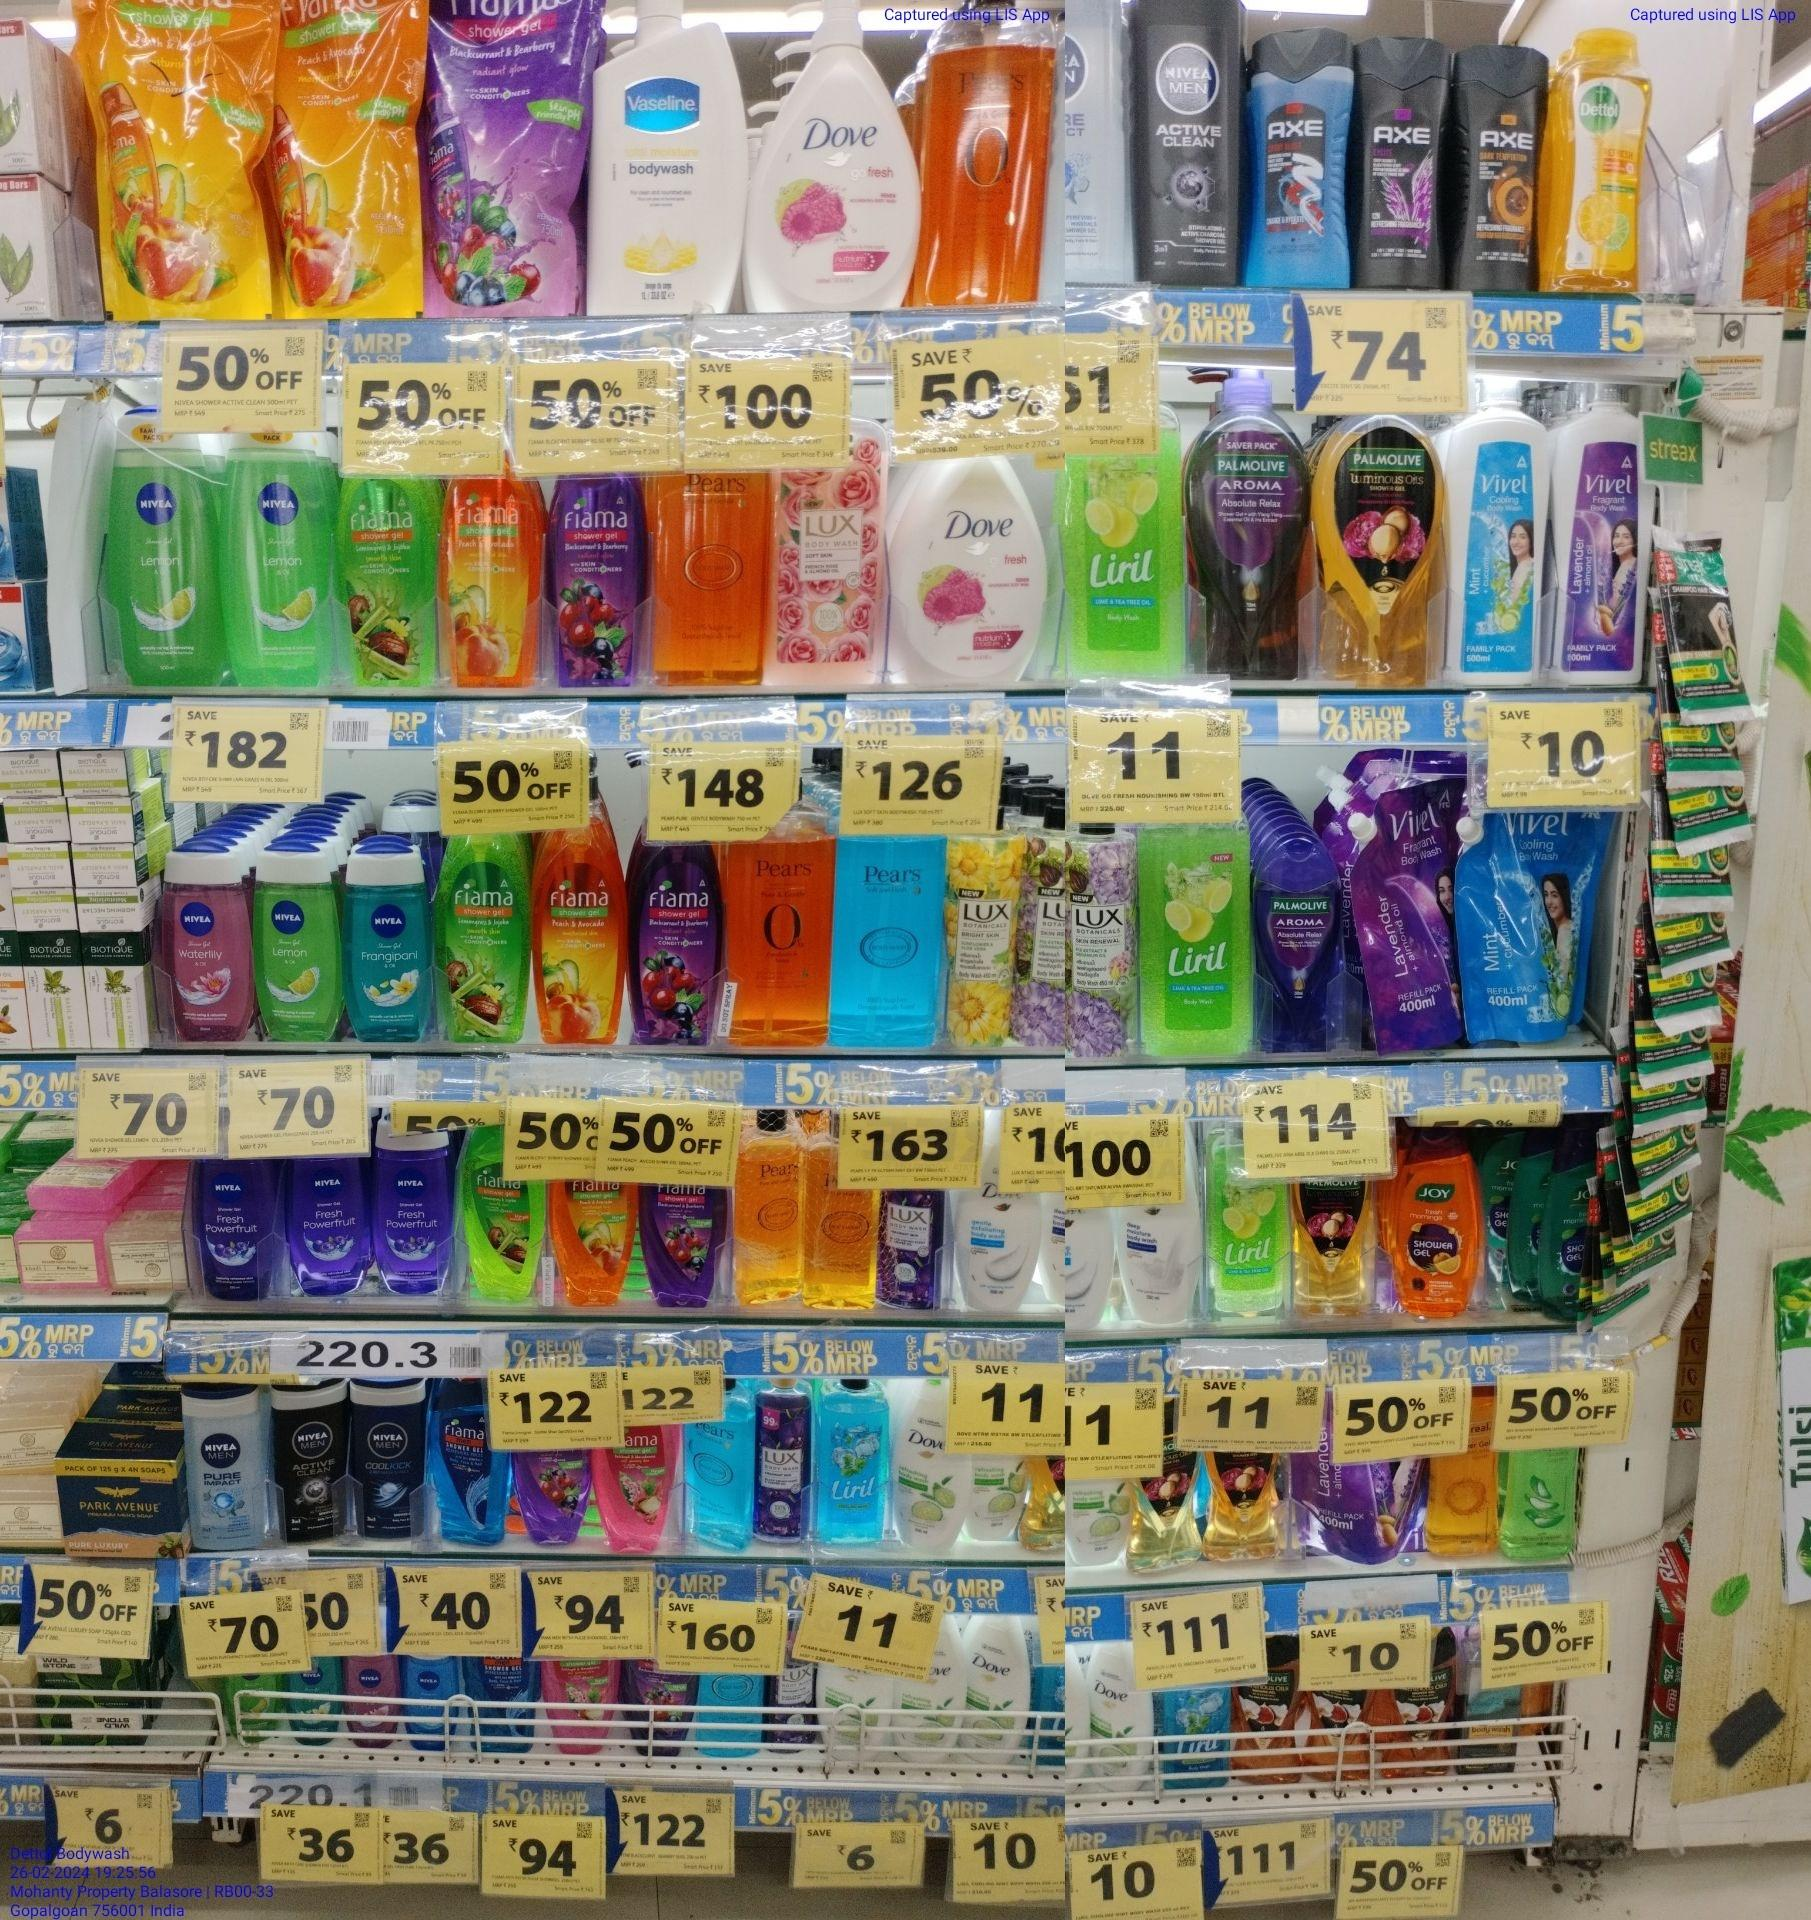Dettol_Bodywash_Refresh: (1559, 24, 1646, 294)
Dove_Refreshing_Body_Wash_250ML: (892, 1377, 963, 1554), (1084, 1644, 1149, 1808), (963, 1605, 1025, 1775), (894, 1622, 955, 1769)
Fiama_Shower_Gel_Lemongrass_and_Jojoba_250ML: (461, 1125, 546, 1306)
Joy_Shower_Gel_Mandarin_and_Lemongrass_250ML: (1396, 1140, 1479, 1326)
Nivea_Shower_Gel_Frangipani_and_Oil_250ML: (347, 843, 439, 1047)
Nivea_Shower_Gel_Fresh_Powerfruit_250ML: (373, 1117, 453, 1297), (294, 1159, 368, 1297)
Nivea_Shower_Gel_Lemon_and_Oil_250ML: (112, 405, 221, 686), (230, 409, 332, 691), (252, 844, 339, 1050)
Nivea_Shower_Gel_Waterlily_and_Oil_250ML: (162, 846, 247, 1043)
Palmolive_Aroma_Relax_250ML: (1258, 841, 1341, 1060)
